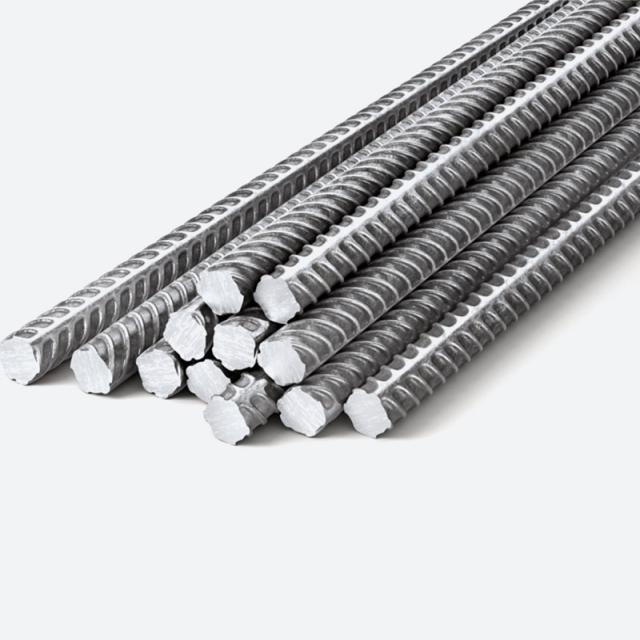Rebar: (206, 315, 260, 377), (163, 301, 211, 363), (1, 337, 47, 398), (277, 387, 333, 437), (347, 386, 399, 439), (198, 268, 250, 321), (70, 342, 118, 399), (135, 353, 191, 401), (254, 328, 302, 384), (251, 268, 298, 323), (207, 396, 256, 447), (184, 353, 232, 404)
